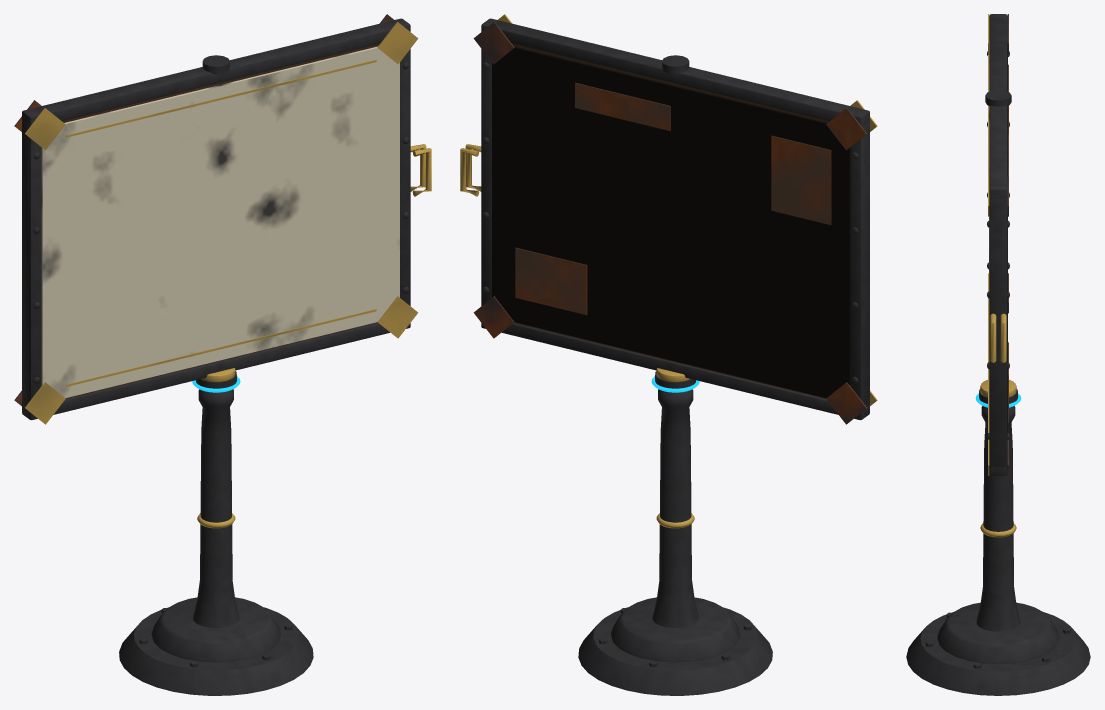
File: flip_board.glb
3 renders of one model, left to right at view 1: azimuth 30°, elevation 25°; view 2: azimuth 150°, elevation 25°; view 3: azimuth 270°, elevation 25°, orthographic. The views are drawn at different scales.
Parts seen in each view (by area): view 1: faceLight, mrg_flip_board_iron, mrg_board_iron, mrg_board_brass, core; view 2: faceDark, mrg_flip_board_iron, mrg_board_iron, mrg_board_rust, mrg_board_rustyIron, core, mrg_board_brass; view 3: mrg_flip_board_iron, mrg_board_iron, mrg_board_brass, mrg_flip_board_brass, faceDark, faceLight.
Boxes of the visible parts, x1,y1,x2,y2 form: faceLight: (41,46,399,398); mrg_flip_board_iron: (119,371,313,695); mrg_board_iron: (22,18,410,420); mrg_board_brass: (25,22,431,424); core: (62,43,379,398); faceDark: (492,46,850,398); mrg_flip_board_iron: (578,371,772,695); mrg_board_iron: (481,18,869,420); mrg_board_rust: (515,82,831,315); mrg_board_rustyIron: (473,22,866,424); core: (512,43,829,398); mrg_board_brass: (460,14,877,405); mrg_flip_board_iron: (906,389,1090,695); mrg_board_iron: (985,14,1011,475); mrg_board_brass: (988,14,1006,475); mrg_flip_board_brass: (980,379,1016,537); faceDark: (1007,43,1007,432); faceLight: (989,43,989,432).
Size of the model in its own units: 1.72 by 2.38 by 0.7087.
9 materials, 6 textured.
